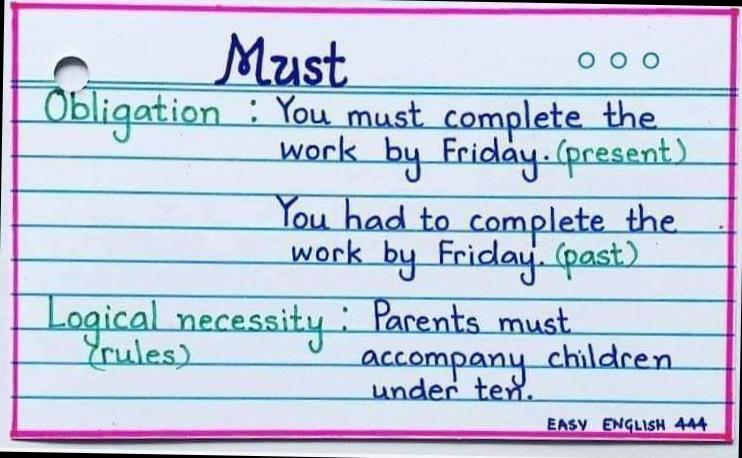text: (40, 85, 660, 154), (43, 292, 574, 360), (273, 192, 679, 254), (278, 128, 690, 189), (289, 233, 641, 290), (358, 336, 674, 391), (214, 30, 350, 91), (371, 374, 536, 406), (84, 336, 192, 377), (545, 412, 710, 435)
